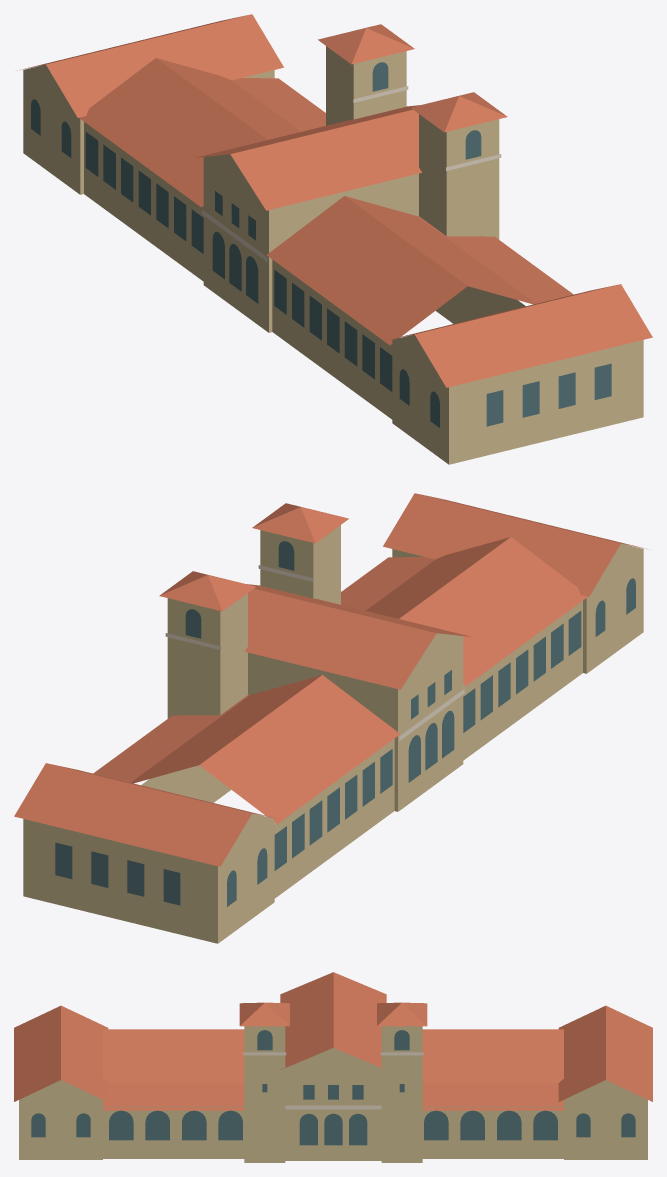
File: den-city-park-pavilion.glb
3 views of the same model, one above another, from view 1: azimuth 30°, elevation 25°; view 2: azimuth 150°, elevation 25°; view 3: azimuth 270°, elevation 25° (orthographic). The views are drawn at different scales.
Visible parts, largest first — view 1: City Park Pavilion; view 2: City Park Pavilion; view 3: City Park Pavilion.
Boxes of the visible parts, <box> form: City Park Pavilion: <box>17,14,652,464</box>; City Park Pavilion: <box>14,493,649,943</box>; City Park Pavilion: <box>14,972,652,1162</box>.
Bounding box in the file's own units: 17.85 × 16.24 × 62.4.
